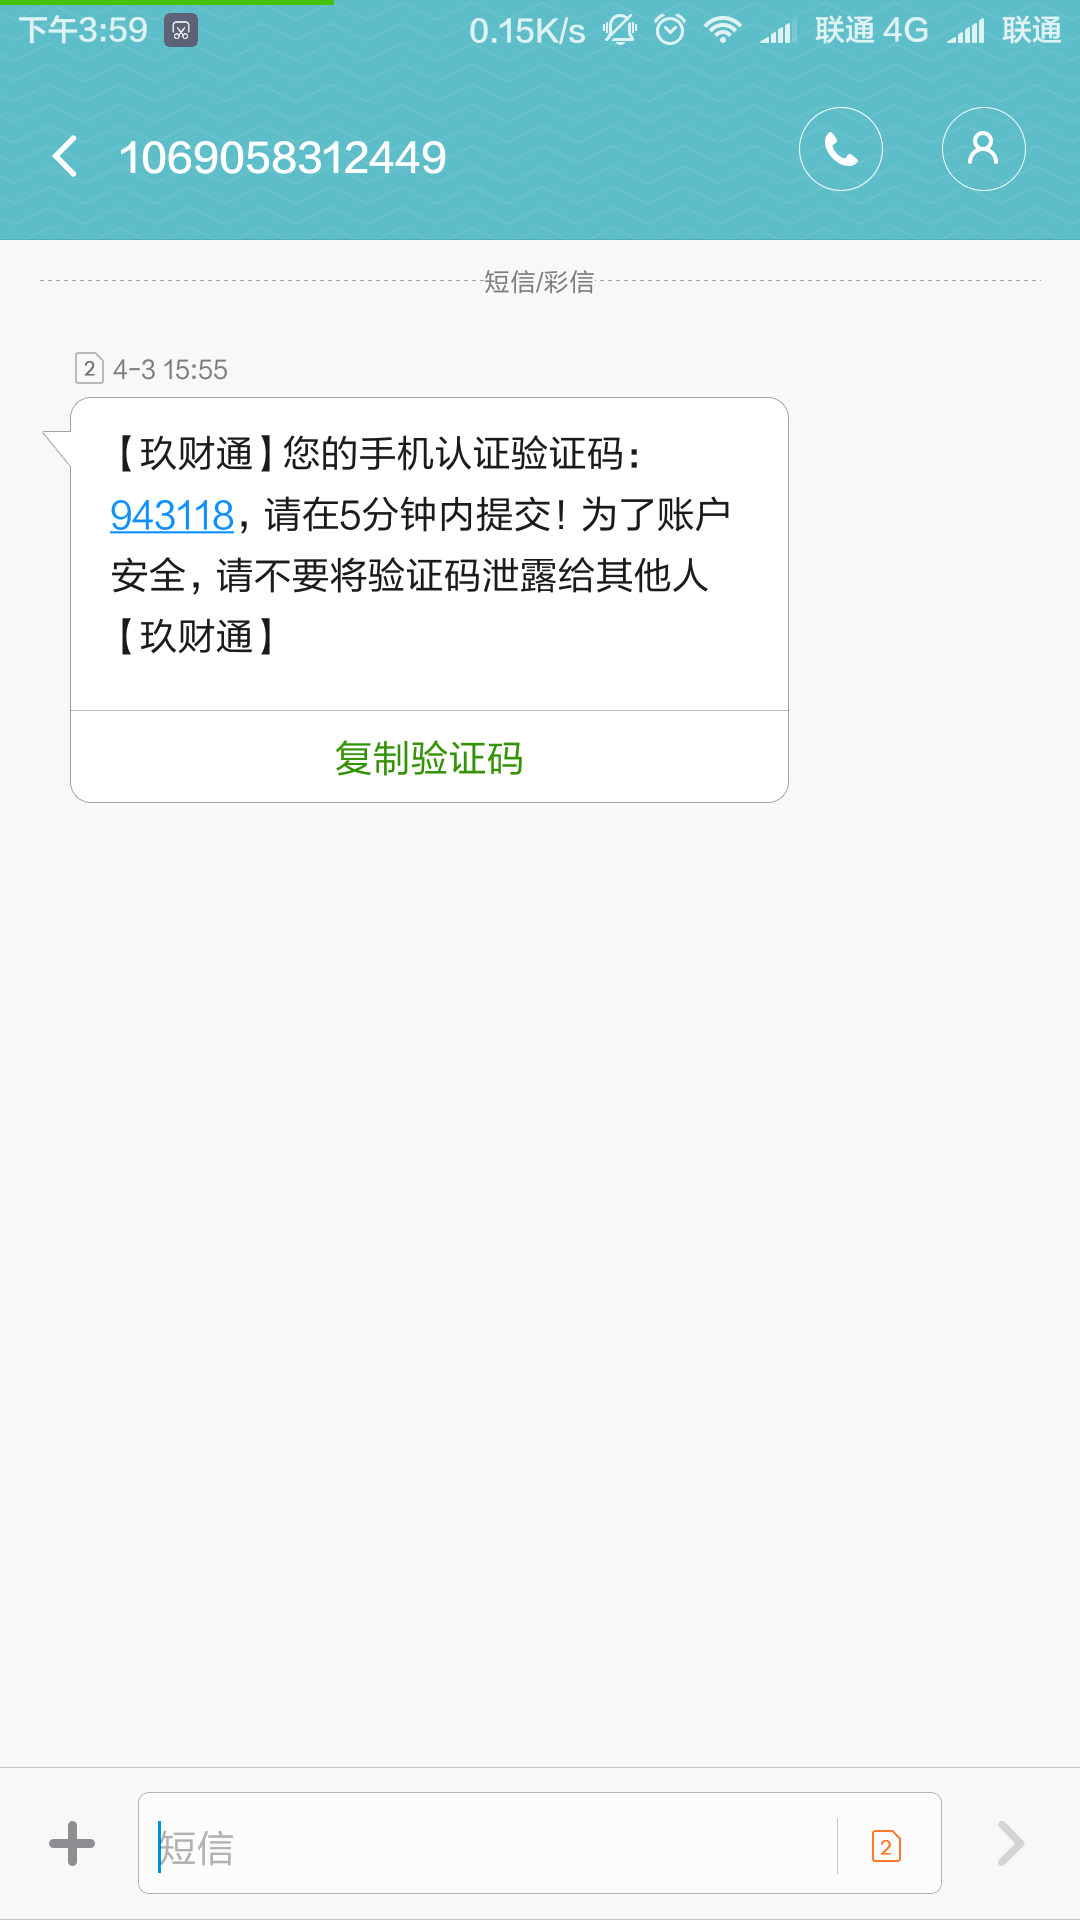imgbutton: (924, 92, 1040, 212), (793, 96, 895, 202), (975, 1807, 1069, 1894), (24, 1811, 117, 1880)
textview: (61, 400, 804, 814), (133, 1785, 951, 1902)
